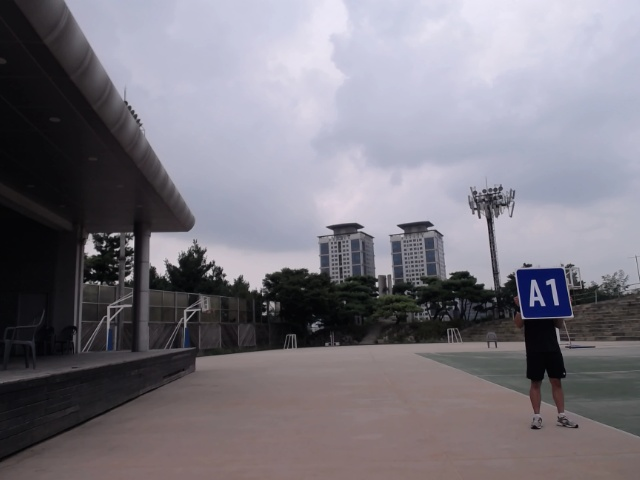delivery_a1: (516, 268, 574, 317)
